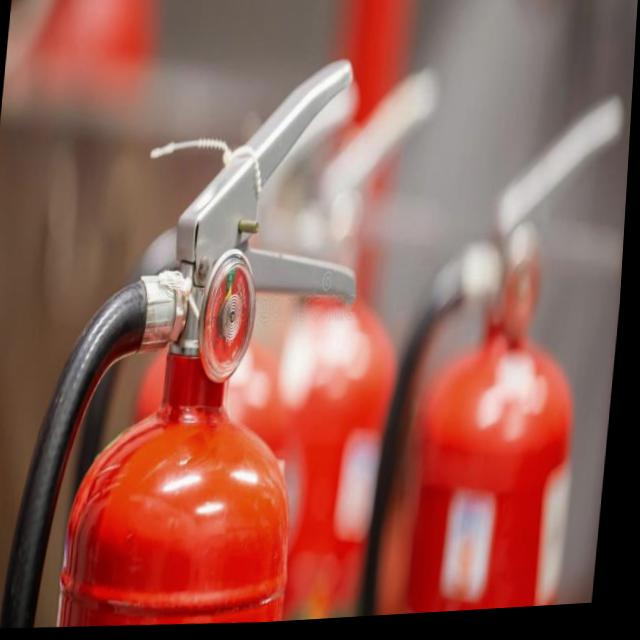FireExtinguisher: (0, 35, 393, 639)
